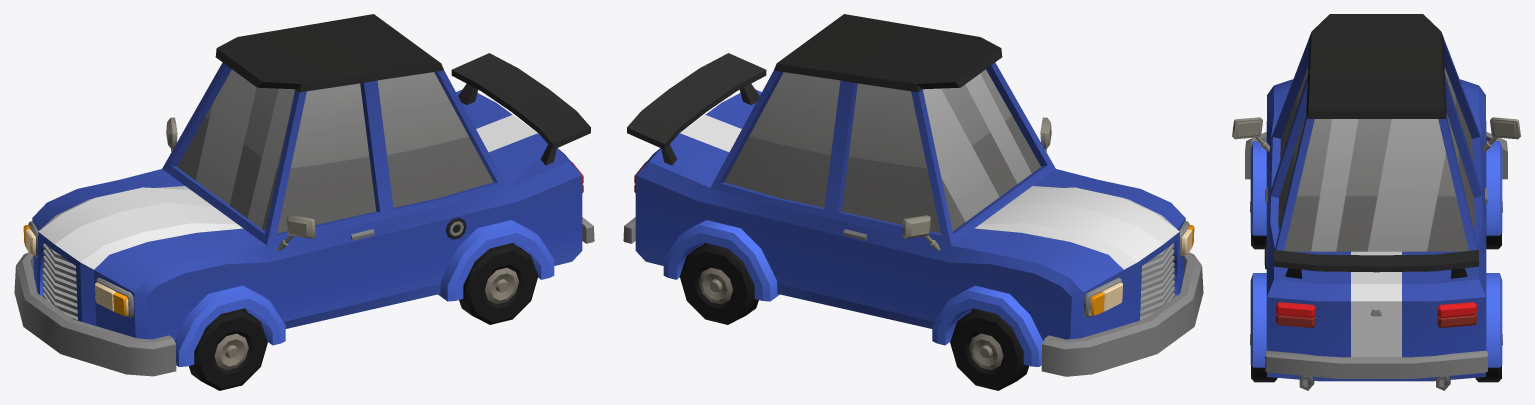
Rendered from Car_2_E.gltf.
3 views of the same model, side by side, from view 1: azimuth 30°, elevation 25°; view 2: azimuth 150°, elevation 25°; view 3: azimuth 270°, elevation 25° (orthographic).
Visible parts, largest first — view 1: Car_2_E, RL, FL; view 2: Car_2_E, RR, FR; view 3: Car_2_E, RL, RR.
Part boxes in pixels (x1,y1,x2,y2): Car_2_E: (14, 14, 594, 376); RL: (459, 243, 538, 324); FL: (188, 309, 267, 390); Car_2_E: (623, 14, 1203, 376); RR: (679, 243, 758, 324); FR: (950, 309, 1029, 390); Car_2_E: (1232, 14, 1520, 390); RL: (1250, 334, 1277, 382); RR: (1475, 334, 1502, 382).
Size of the model in its own units: 3.64 by 1.8 by 1.78.
Materials: 4 (4 with a texture image).
